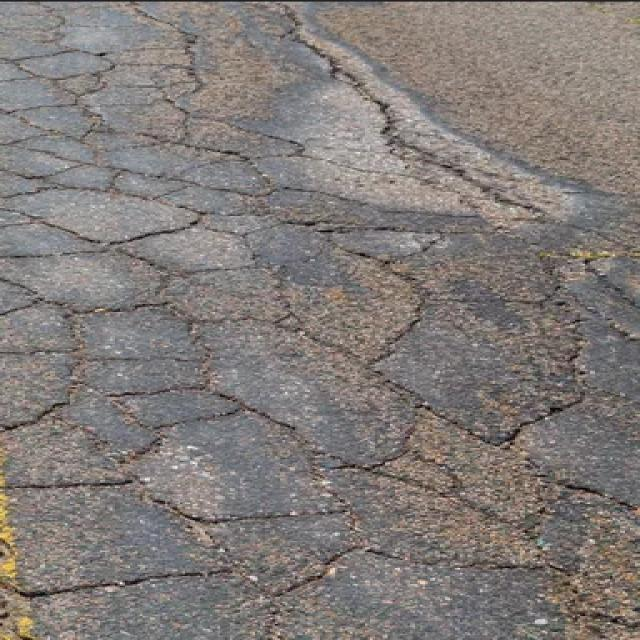Drain Hole: (39, 12, 640, 563)
